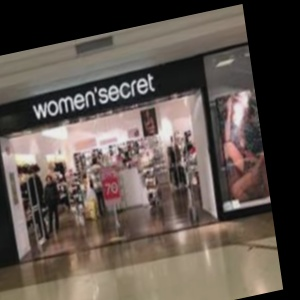women_secret: (120, 42, 185, 101)
